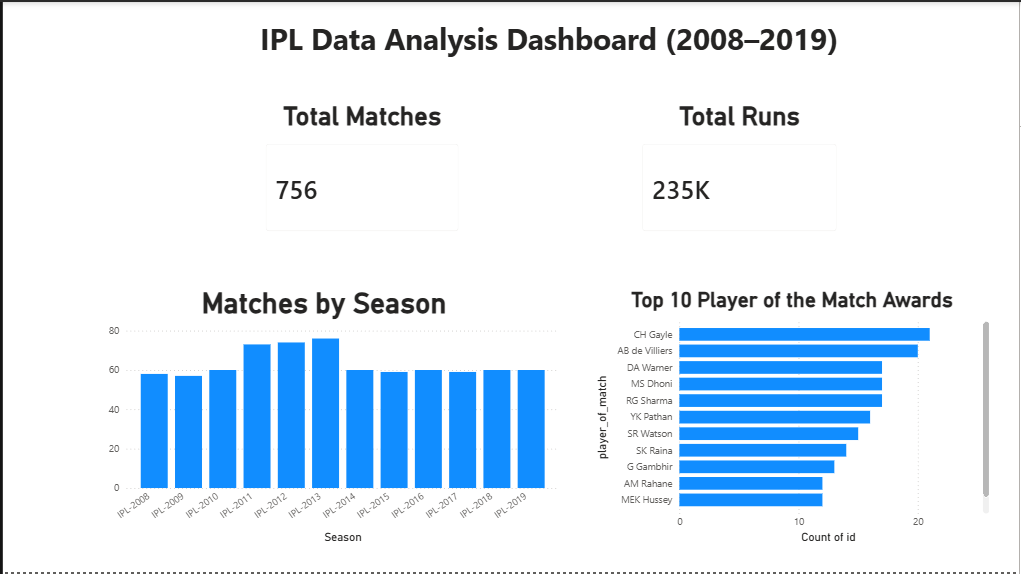

This screenshot's page, from the dashboard's own definition file:
{"tool":"powerbi","page":{"name":"Page 1","canvas":[1280,720],"ordinal":0},"visuals":[{"type":"cardVisual","title":"Total Matches","fields":{"Data":["Count(matches.id)"]},"box":[313.7,124.7,277.8,181.4],"z":0},{"type":"cardVisual","title":"Total Runs","fields":{"Data":["Sum(deliveries.total_runs)"]},"box":[788,124.7,279.7,181.4],"z":1000},{"type":"clusteredColumnChart","title":"Matches by Season","fields":{"Category":["matches.Season"],"Y":["CountNonNull(matches.id)"]},"box":[103.9,359.1,600.9,326.9],"z":2000},{"type":"barChart","title":"Top 10 Player of the Match Awards","fields":{"Y":["CountNonNull(matches.id)"],"Category":["matches.player_of_match"]},"box":[740.8,359.1,506.5,326.9],"z":3000},{"type":"textbox","box":[221.1,15.1,933.6,109.6],"z":4000}]}

Visuals, with their boxes in screenshot pixels (x1, y1, x2, y2), scaled from the page's 1280x720 canvas onto the 1021x574 screenshot:
"Total Matches" cardVisual: <box>250,99,472,244</box>
"Total Runs" cardVisual: <box>629,99,852,244</box>
"Matches by Season" clusteredColumnChart: <box>83,286,562,547</box>
"Top 10 Player of the Match Awards" barChart: <box>591,286,995,547</box>
textbox: <box>176,12,921,99</box>
